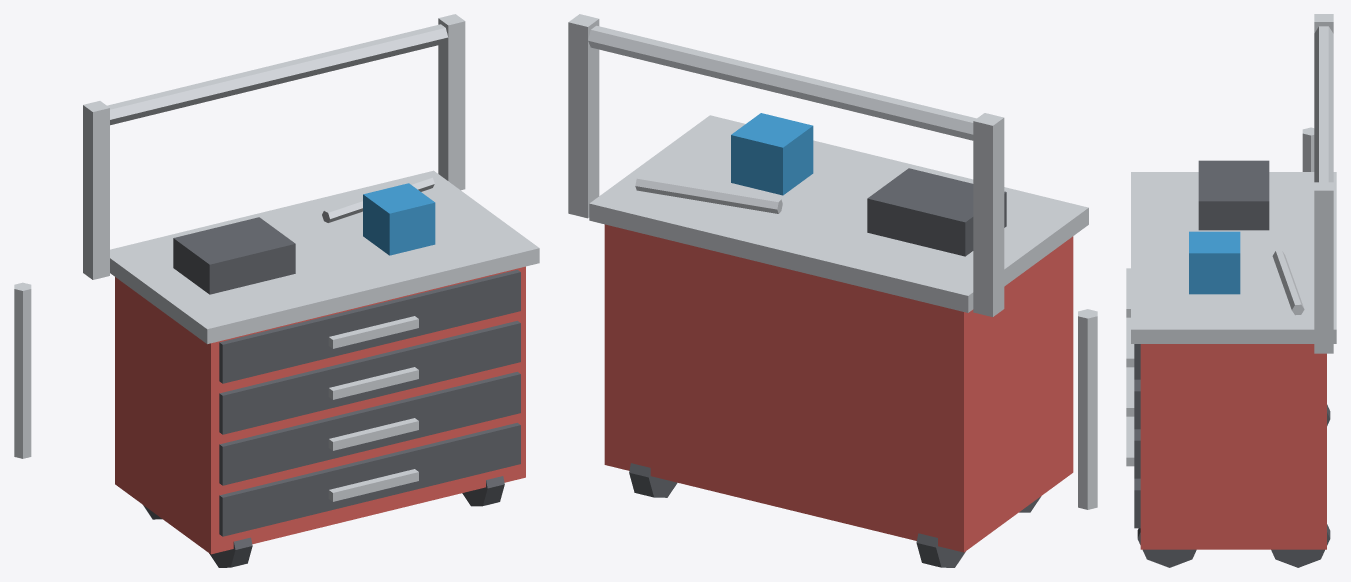
The model's file is go-kart-track-and-pit-lane-tool-trolley-6109af13__34351.glb.
The picture shows the model from 3 angles, left to right: view 1: azimuth 30°, elevation 25°; view 2: azimuth 150°, elevation 25°; view 3: azimuth 270°, elevation 25°; orthographic projection. The views are drawn at different scales.
Parts seen in each view (by area): view 1: tool-trolley-charcoal, tool-trolley-steel, tool-trolley-red, tool-trolley-azure; view 2: tool-trolley-red, tool-trolley-steel, tool-trolley-charcoal, tool-trolley-azure; view 3: tool-trolley-red, tool-trolley-steel, tool-trolley-charcoal, tool-trolley-azure.
Boxes of the visible parts, left/top/right/bottom form: tool-trolley-charcoal: left=143, top=217, right=520, bottom=567; tool-trolley-steel: left=14, top=14, right=539, bottom=501; tool-trolley-red: left=115, top=266, right=525, bottom=554; tool-trolley-azure: left=363, top=183, right=435, bottom=255; tool-trolley-red: left=604, top=224, right=1073, bottom=552; tool-trolley-steel: left=568, top=14, right=1097, bottom=509; tool-trolley-charcoal: left=629, top=168, right=1041, bottom=567; tool-trolley-azure: left=731, top=113, right=813, bottom=195; tool-trolley-red: left=1140, top=344, right=1326, bottom=549; tool-trolley-steel: left=1126, top=14, right=1336, bottom=466; tool-trolley-charcoal: left=1134, top=160, right=1330, bottom=567; tool-trolley-azure: left=1189, top=231, right=1240, bottom=294.
Size of the model in its own units: 1.58 by 1.38 by 0.6551.
